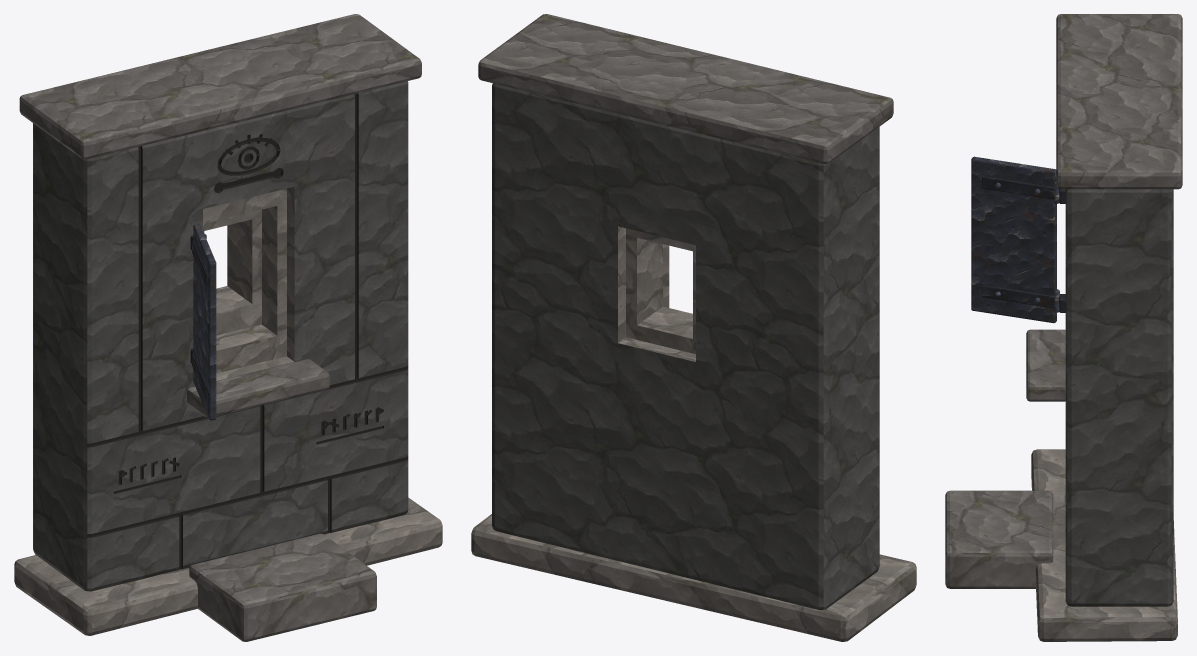
File: vo_spyhole_wall.glb
3 renders of one model, left to right at view 1: azimuth 30°, elevation 25°; view 2: azimuth 150°, elevation 25°; view 3: azimuth 270°, elevation 25°, orthographic. The views are drawn at different scales.
Parts seen in each view (by area): view 1: model; view 2: model; view 3: model.
Boxes of the visible parts, box(x1,y1,x2,y2) form: model: box(14, 14, 442, 641); model: box(471, 14, 916, 641); model: box(945, 14, 1182, 641).
Bounding box in the file's own units: 1.35 × 1.71 × 0.79.
7 materials, 6 textured.
